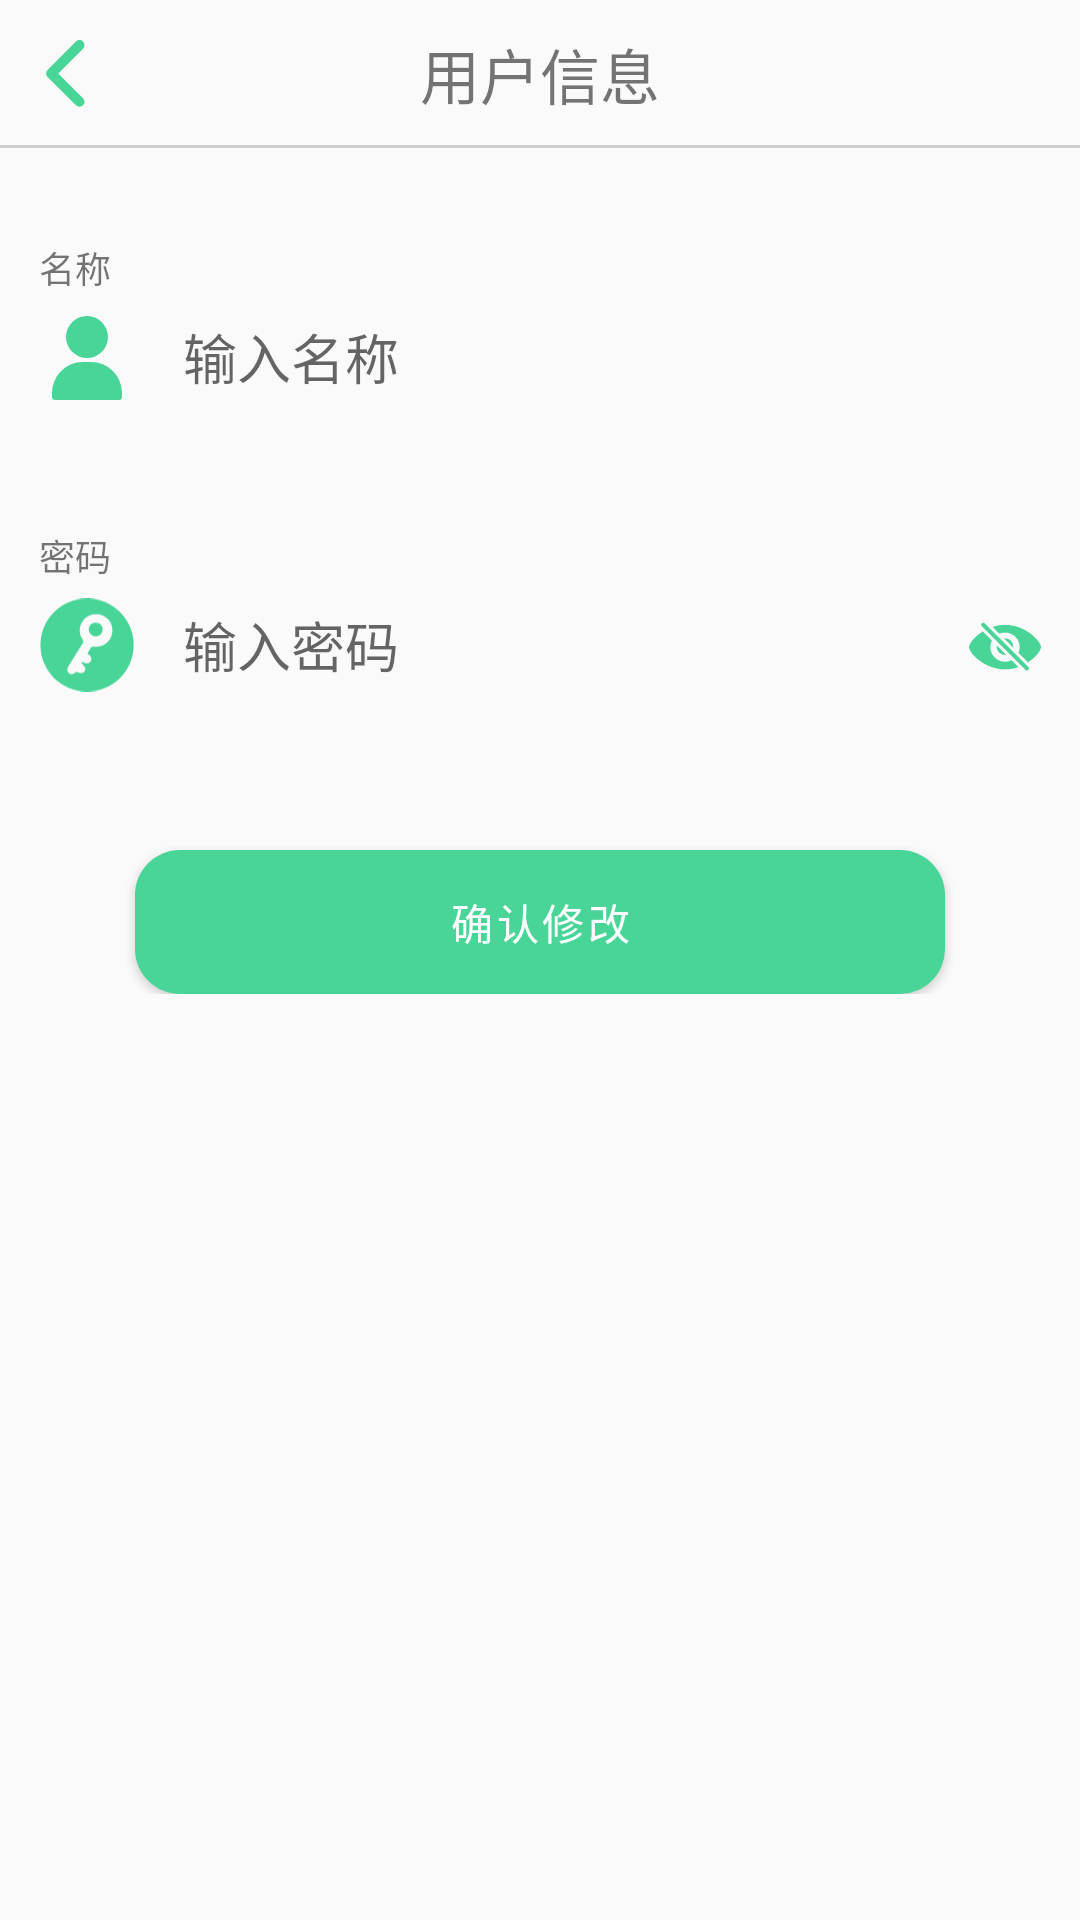

Named icons in this screenshot (1080px x 1920px) and their bounding boxes, (x1,y1,x2,y2):
back: (46,40,85,107)
eye slash: (969,622,1041,671)
forget password: (40,598,134,692)
